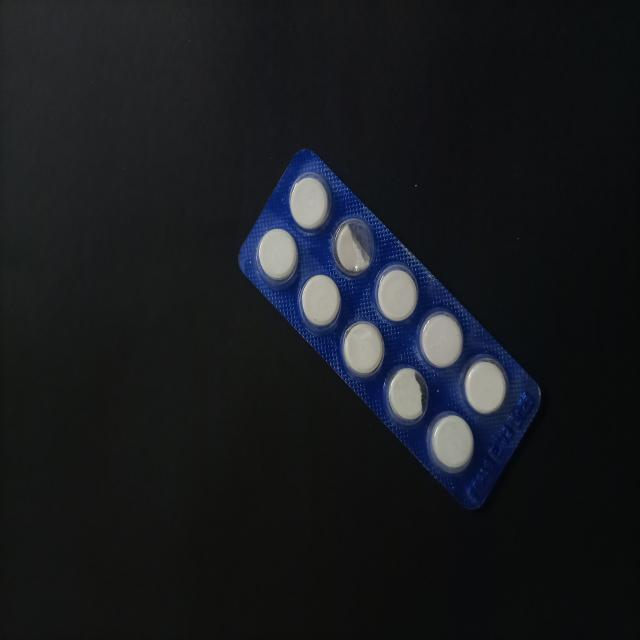defect: (383, 362, 430, 428), (329, 215, 377, 278)
